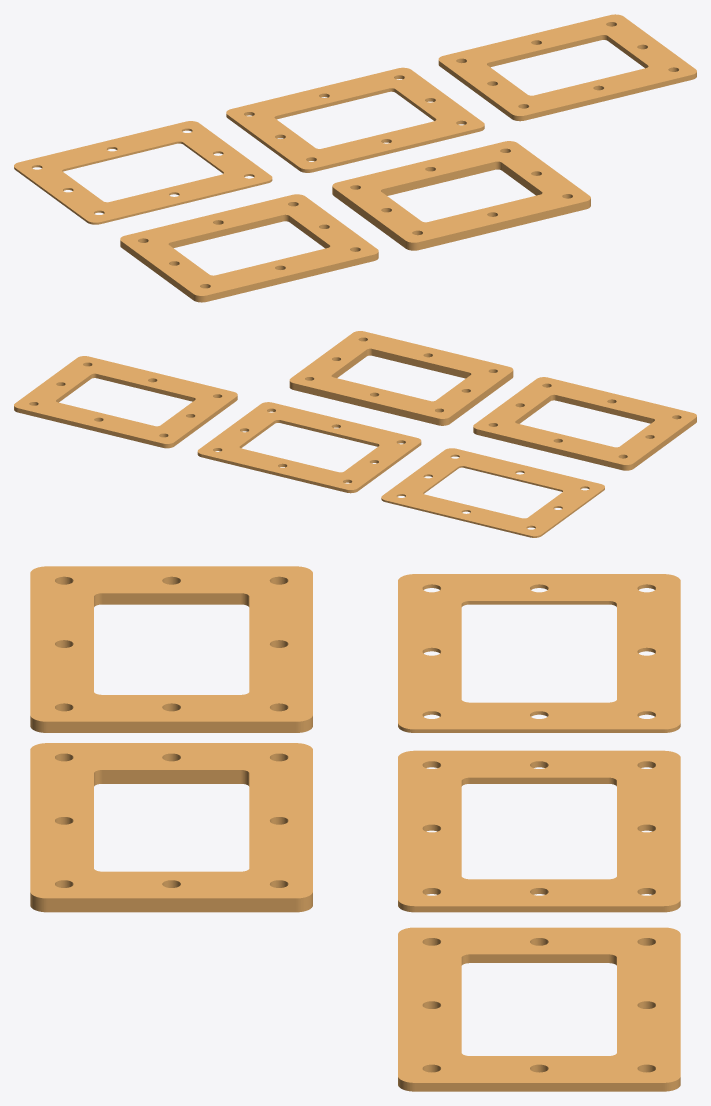
Rendered from starplikas.glb.
The picture shows the model from 3 angles, top to bottom: view 1: azimuth 30°, elevation 25°; view 2: azimuth 150°, elevation 25°; view 3: azimuth 270°, elevation 25°; orthographic projection. The views are drawn at different scales.
Parts seen in each view (by area): view 1: Starplika_5mm_mitra_h5.4mm, Starplika_4mm_mitra_h4.4mm, Starplika_3mm_mitra_h3.4mm, Starplika_2mm_mitra_h2.4mm, Starplika_1mm_mitra_h1.4mm; view 2: Starplika_5mm_mitra_h5.4mm, Starplika_4mm_mitra_h4.4mm, Starplika_3mm_mitra_h3.4mm, Starplika_2mm_mitra_h2.4mm, Starplika_1mm_mitra_h1.4mm; view 3: Starplika_5mm_mitra_h5.4mm, Starplika_4mm_mitra_h4.4mm, Starplika_3mm_mitra_h3.4mm, Starplika_2mm_mitra_h2.4mm, Starplika_1mm_mitra_h1.4mm.
Boxes of the visible parts, x1,y1,x2,y2 form: Starplika_5mm_mitra_h5.4mm: (332, 141, 590, 250); Starplika_4mm_mitra_h4.4mm: (120, 194, 378, 302); Starplika_3mm_mitra_h3.4mm: (438, 14, 696, 121); Starplika_2mm_mitra_h2.4mm: (226, 67, 484, 172); Starplika_1mm_mitra_h1.4mm: (14, 121, 272, 224); Starplika_5mm_mitra_h5.4mm: (289, 331, 513, 425); Starplika_4mm_mitra_h4.4mm: (473, 377, 696, 470); Starplika_3mm_mitra_h3.4mm: (14, 356, 237, 448); Starplika_2mm_mitra_h2.4mm: (197, 402, 421, 493); Starplika_1mm_mitra_h1.4mm: (381, 448, 604, 537); Starplika_5mm_mitra_h5.4mm: (30, 743, 312, 912); Starplika_4mm_mitra_h4.4mm: (30, 566, 312, 732); Starplika_3mm_mitra_h3.4mm: (398, 927, 680, 1091); Starplika_2mm_mitra_h2.4mm: (398, 750, 680, 912); Starplika_1mm_mitra_h1.4mm: (398, 574, 680, 732).
Size of the model in its own units: 0.43 by 0.0054 by 0.23.
